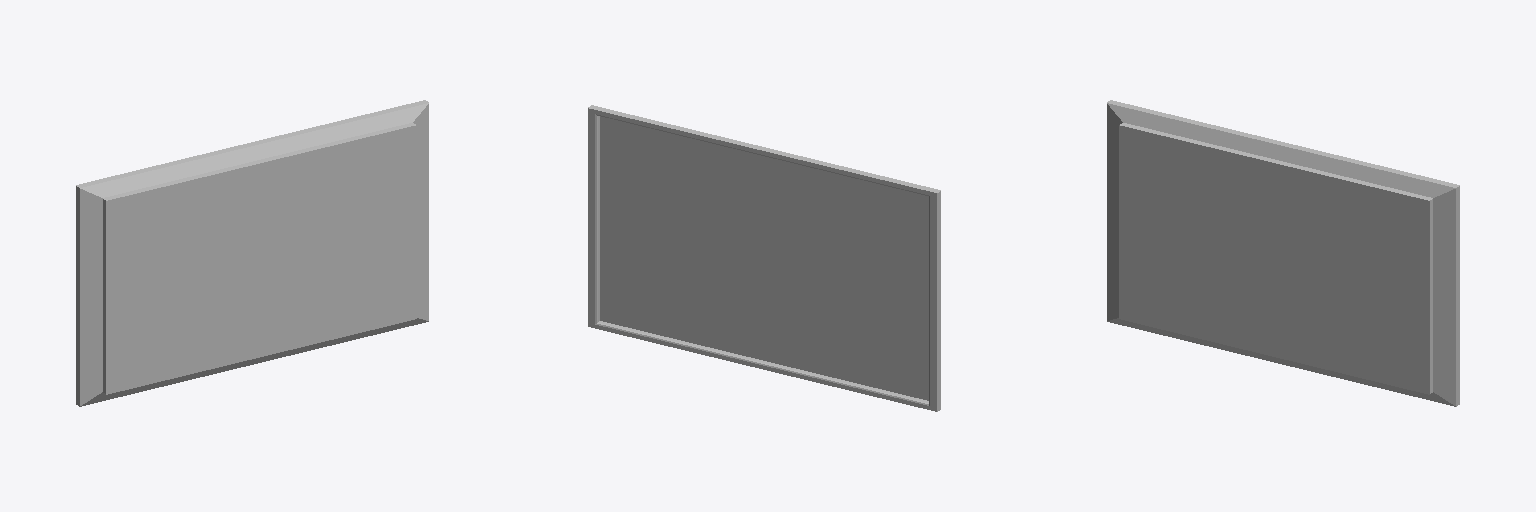
The model's file is cuadrogrande.obj.
3 views of the same model, side by side, from view 1: azimuth 30°, elevation 25°; view 2: azimuth 150°, elevation 25°; view 3: azimuth 330°, elevation 25° (orthographic).
Visible parts, largest first — view 1: polySurface85 polySurface24; view 2: polySurface85 polySurface24; view 3: polySurface85 polySurface24.
Boxes of the visible parts, x1=… form: polySurface85 polySurface24: x1=76, y1=100, x2=428, y2=406; polySurface85 polySurface24: x1=588, y1=105, x2=940, y2=411; polySurface85 polySurface24: x1=1107, y1=100, x2=1459, y2=406.
Size of the model in its own units: 1.46 by 0.8742 by 0.0806.